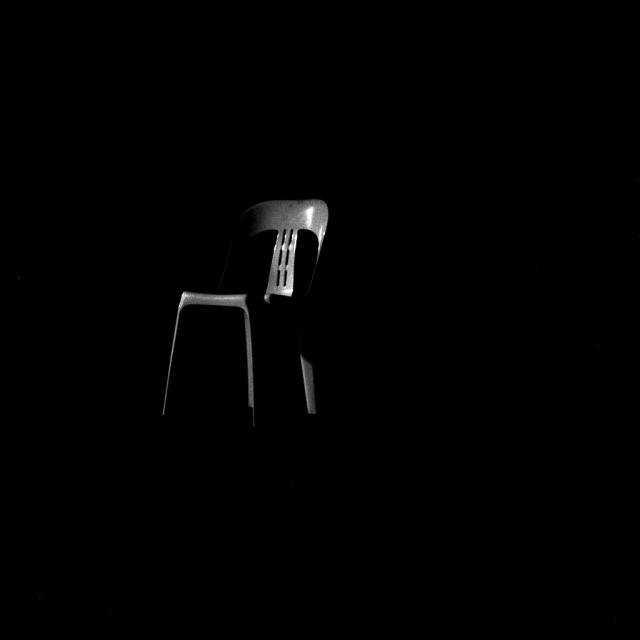chair: (151, 178, 357, 463)
